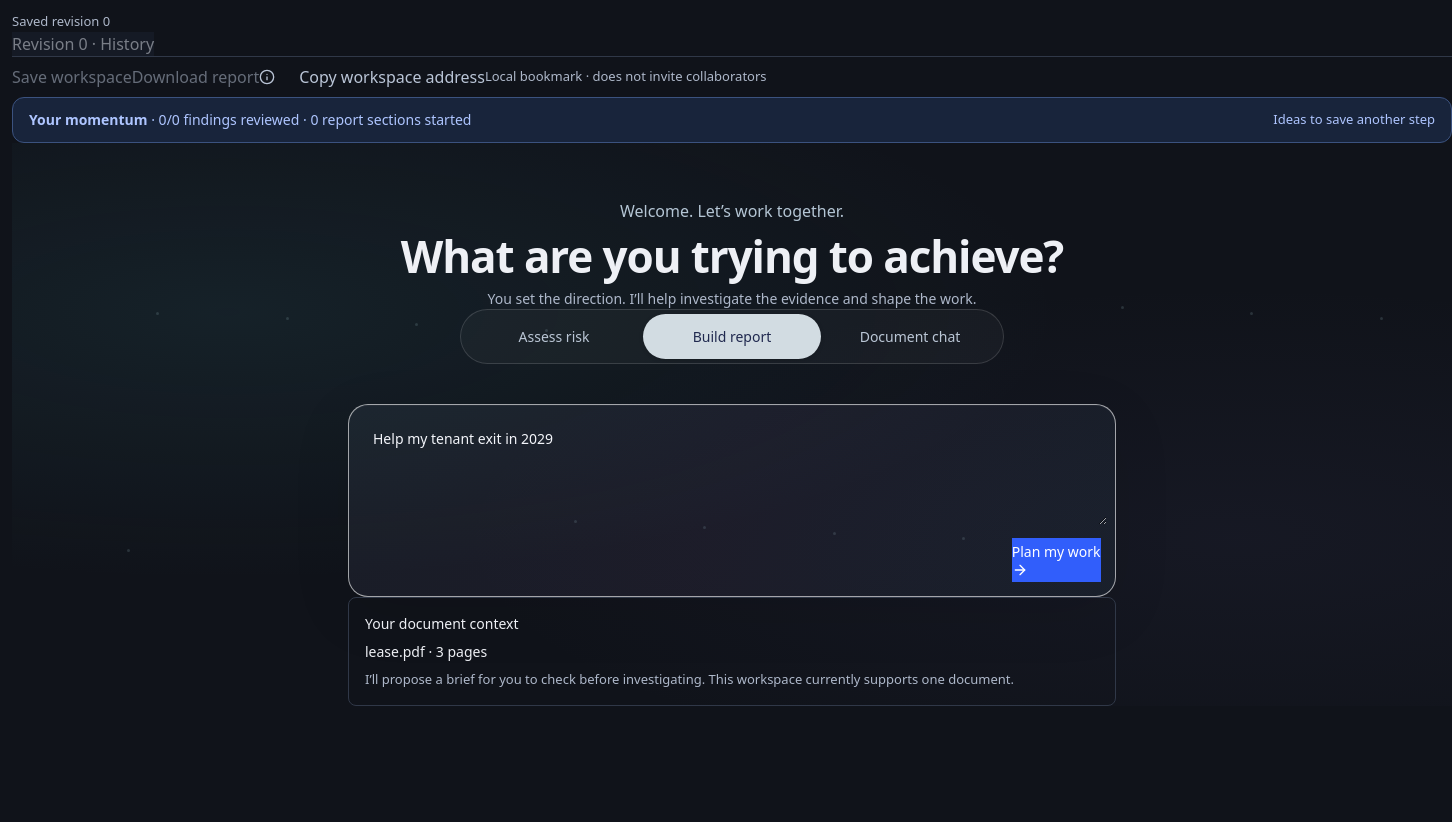
Test: failed planning clears loading feedback and leaves preparation retryable
Click the button "Plan my work".
click(1056, 560)  # box [1012,538,1101,582]
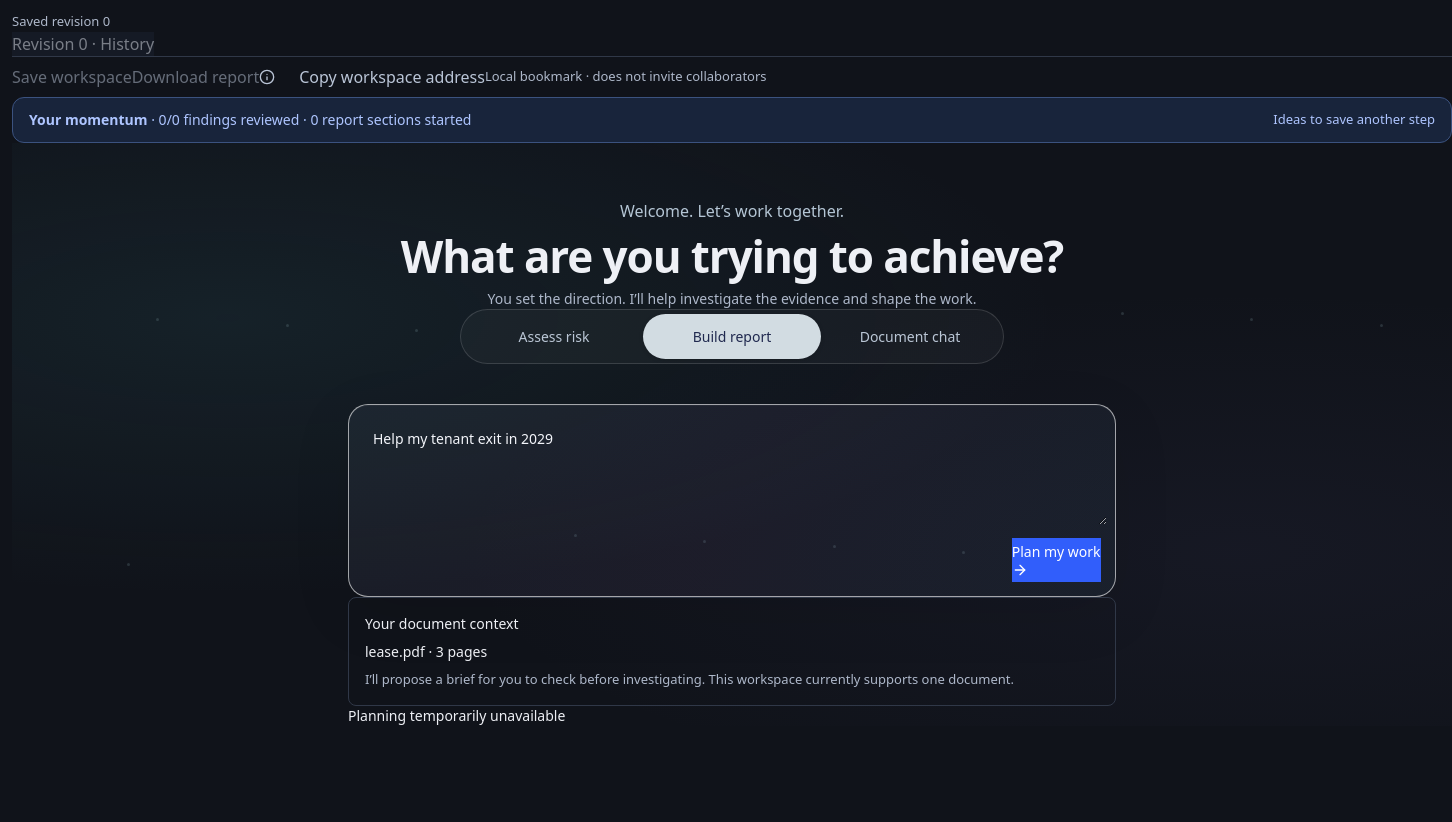
Expected: the message "Planning temporarily unavailable" is shown, [348,706,565,726]
